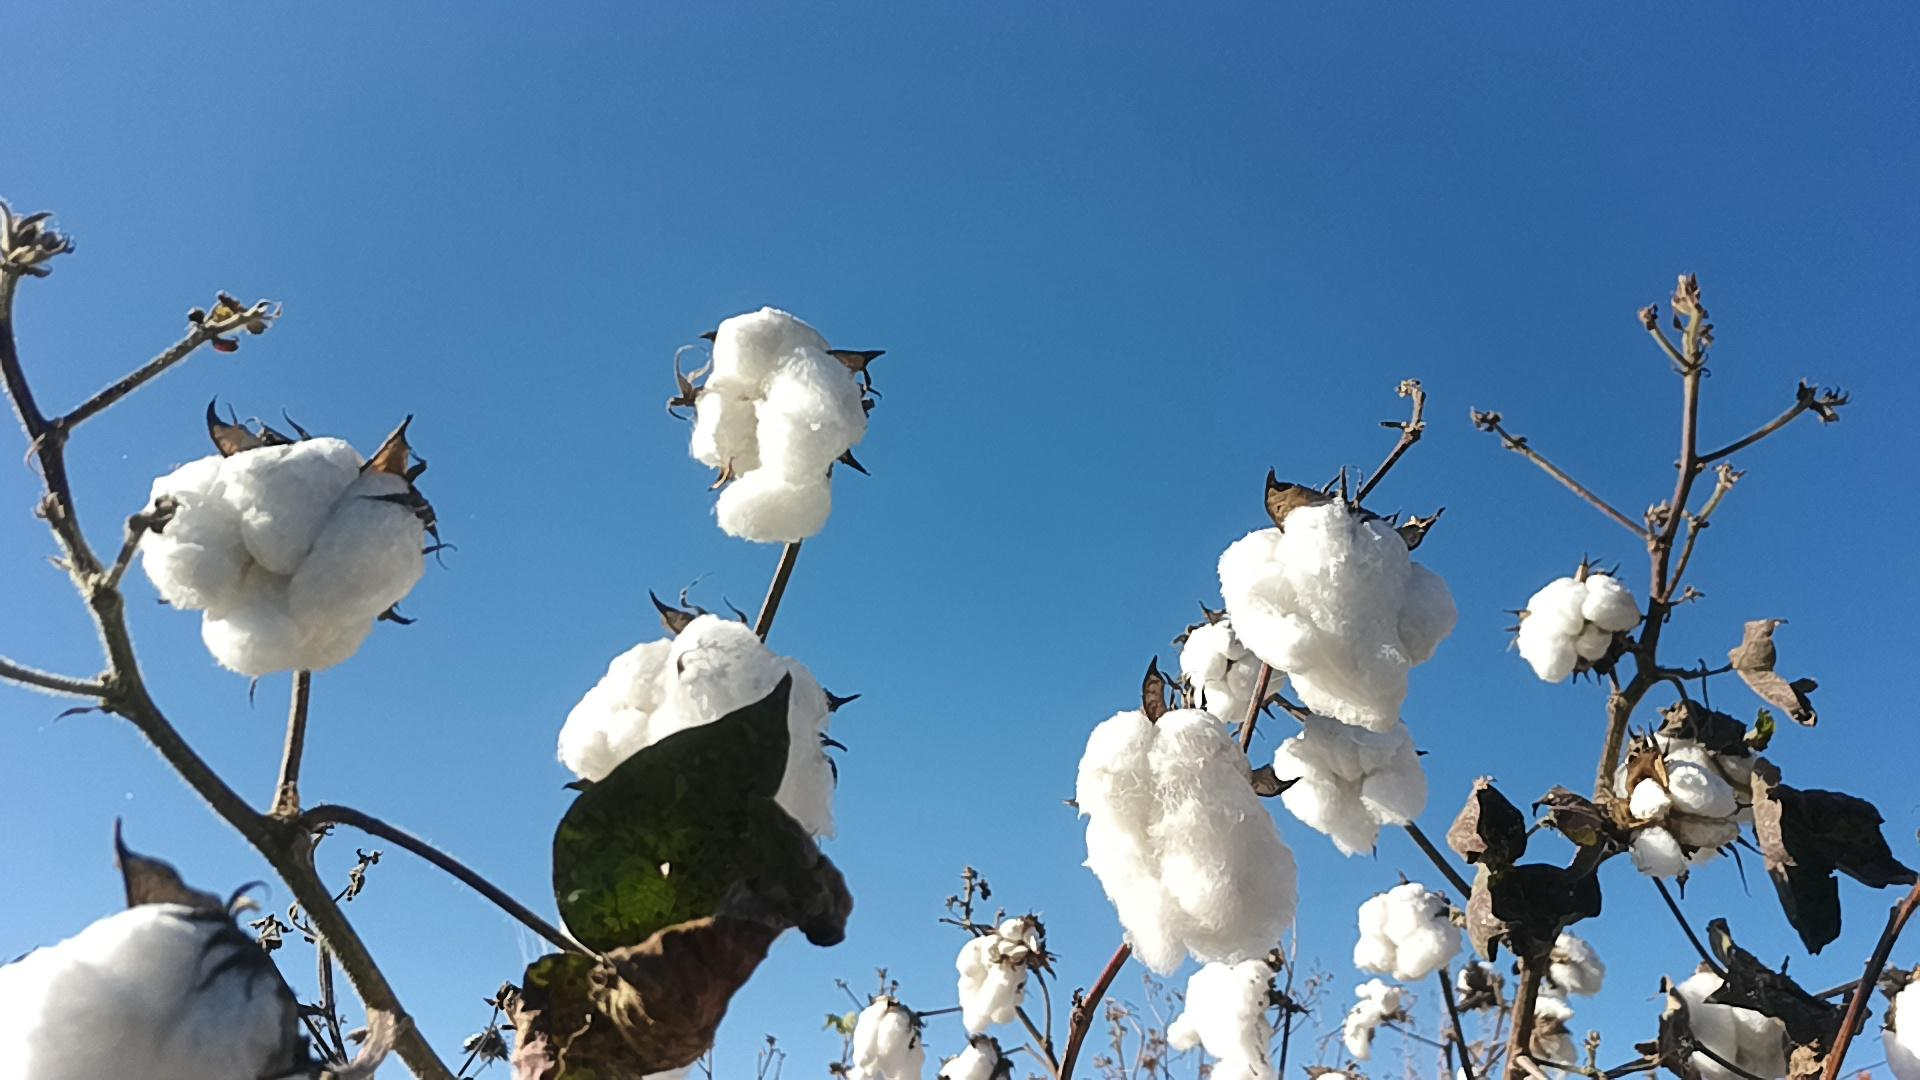cotton_ready: (142, 433, 438, 679), (558, 613, 845, 858), (1071, 708, 1302, 971), (0, 898, 284, 1080), (1216, 517, 1462, 713), (688, 303, 868, 549), (1611, 727, 1753, 884), (1275, 715, 1427, 855), (1671, 965, 1800, 1080), (1509, 575, 1634, 688), (1167, 959, 1279, 1080), (1354, 882, 1462, 982), (956, 932, 1030, 1034), (857, 997, 926, 1080), (1345, 980, 1402, 1059), (939, 1034, 1011, 1080)
